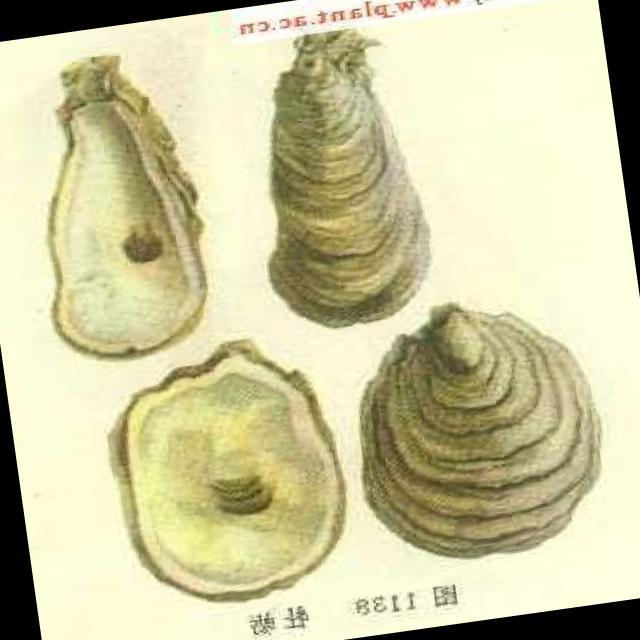Oyster- Indeterminate: (337, 278, 620, 576), (225, 13, 447, 335)
Oyster-Open: (22, 54, 280, 382), (93, 324, 359, 616)
